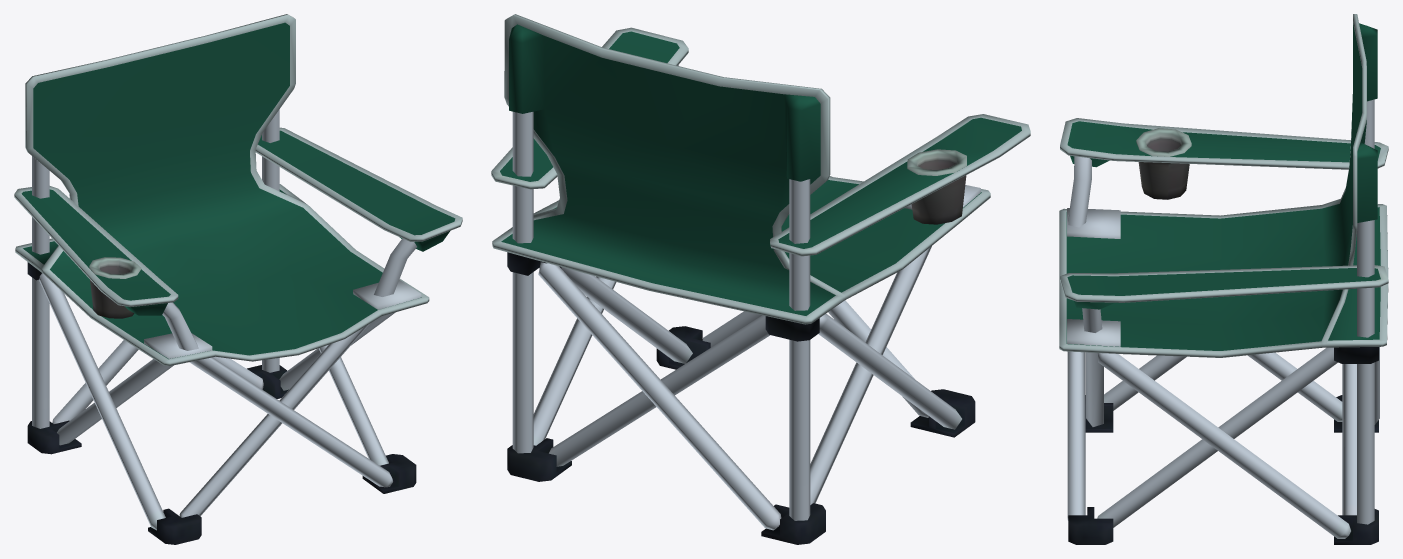
3 views of the same model, side by side, from view 1: azimuth 30°, elevation 25°; view 2: azimuth 150°, elevation 25°; view 3: azimuth 270°, elevation 25° (orthographic). The views are drawn at different scales.
Size of the model in its own units: 9.98 by 10.31 by 7.71.
Materials: 2 (2 with a texture image).
